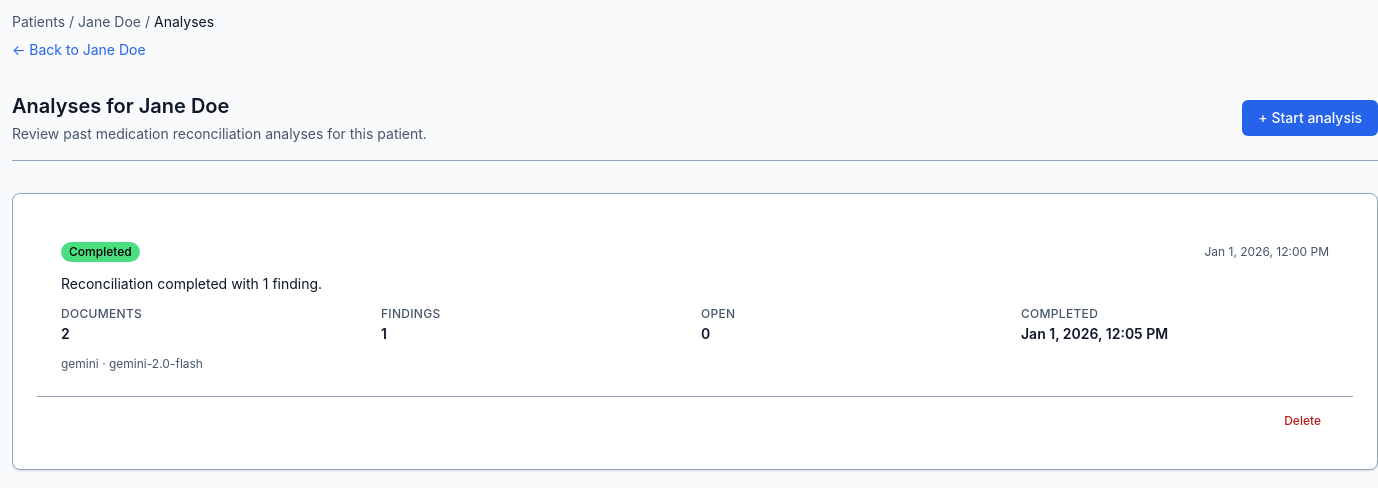
Test: PatientAnalysesPage › deletes an analysis from the list
Check: the text "Reconciliation completed with 1 finding." is shown, box [61,275,322,292]
What coordinates should you click on to do the following:
click the button with aria-label "Delete analysis from"
I would click on:
 (1303, 421)
Its box is [1276,409,1329,433].
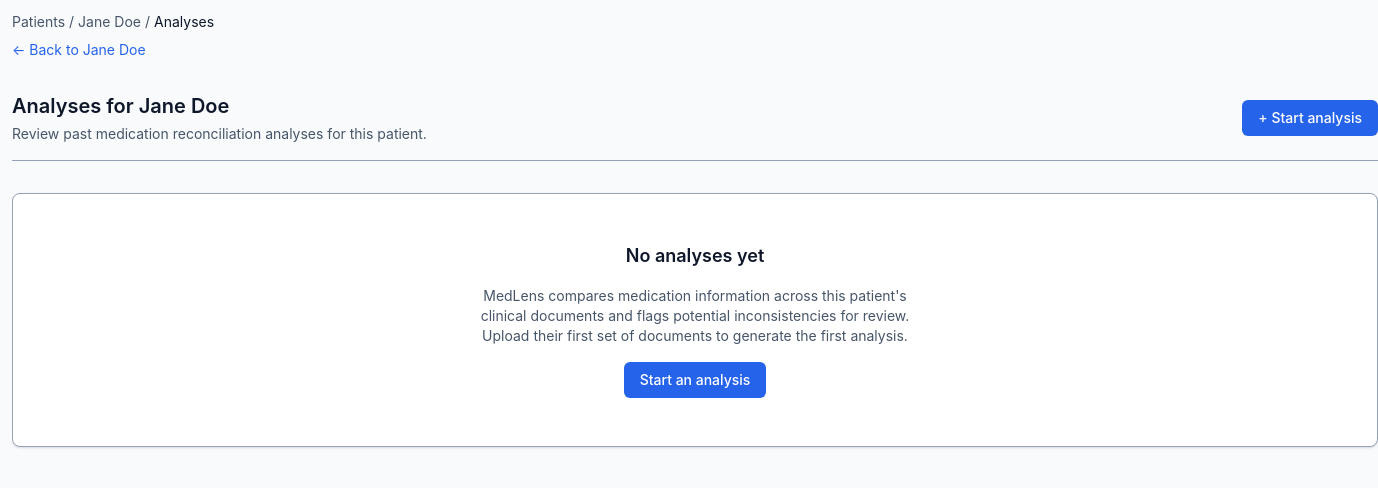
Check: the link "Reconciliation completed with 1 finding." is gone
